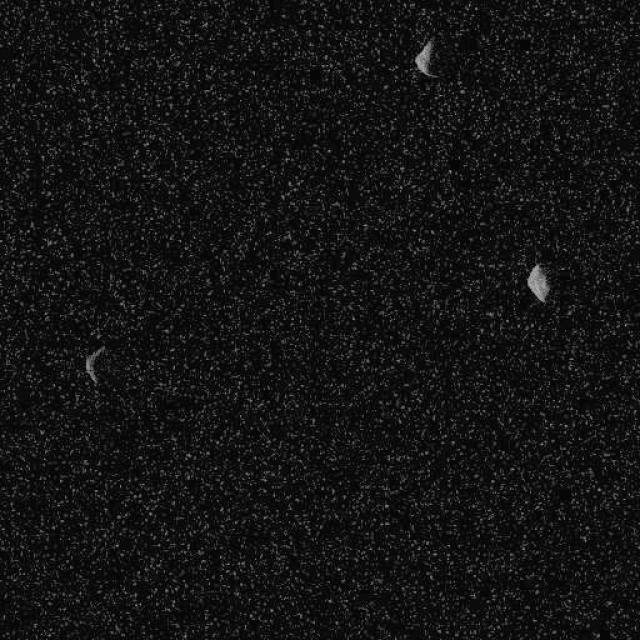D2: (412, 36, 442, 79), (525, 262, 550, 302), (84, 344, 106, 385)
